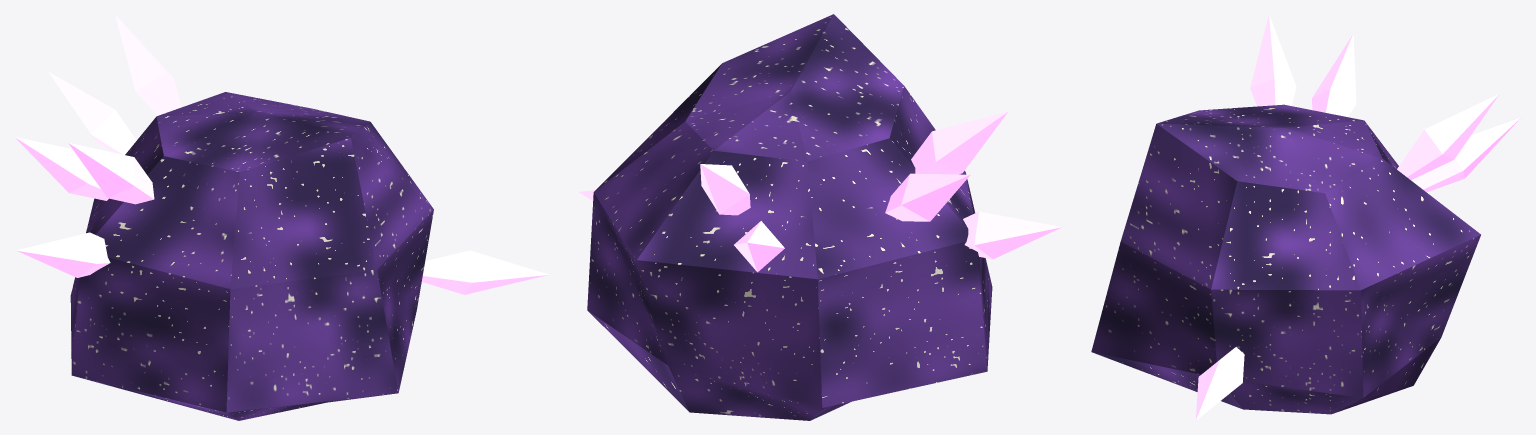
The model's file is MeteorChunk.glb.
3 renders of one model, left to right at view 1: azimuth 30°, elevation 25°; view 2: azimuth 150°, elevation 25°; view 3: azimuth 270°, elevation 25°, orthographic. The views are drawn at different scales.
Parts seen in each view (by area): view 1: MeteorChunk, MeteorChunk_Glow; view 2: MeteorChunk, MeteorChunk_Glow; view 3: MeteorChunk, MeteorChunk_Glow.
Part boxes in pixels (box(x1,y1,x2,y2)): MeteorChunk: box(70, 92, 433, 420); MeteorChunk_Glow: box(15, 14, 549, 294); MeteorChunk: box(587, 14, 992, 420); MeteorChunk_Glow: box(579, 111, 1062, 272); MeteorChunk: box(1091, 104, 1480, 414); MeteorChunk_Glow: box(1195, 14, 1521, 420).
Bounding box in the file's own units: 3.03 × 1.65 × 2.4.
Materials: 2 (1 with a texture image).
